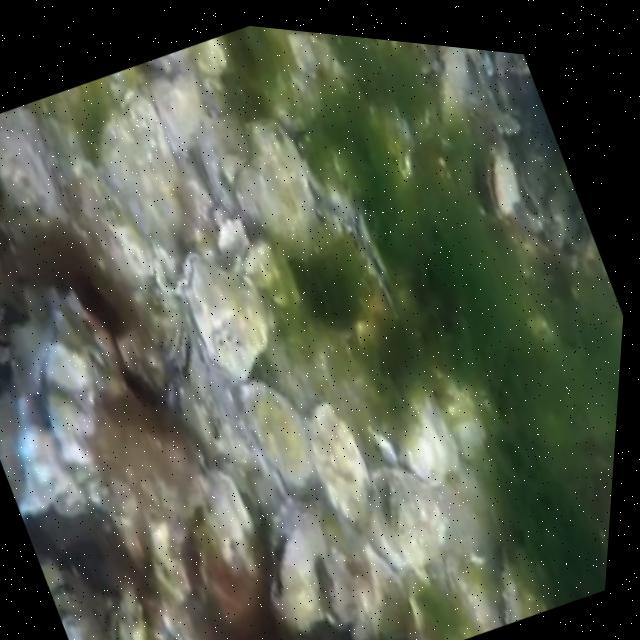Oyster-Closed: (193, 475, 274, 640), (180, 258, 269, 381), (190, 114, 247, 220), (237, 240, 296, 303), (352, 215, 389, 287), (486, 151, 520, 220), (165, 314, 189, 368), (490, 51, 505, 78), (482, 50, 495, 72)
Oyster-Indeterminate: (97, 95, 188, 281), (239, 120, 318, 245), (238, 380, 314, 493), (307, 406, 373, 530), (398, 397, 458, 484), (302, 131, 357, 210), (271, 72, 327, 131), (504, 545, 539, 624), (194, 38, 224, 76), (487, 109, 521, 136)
Oyster-Open: (15, 300, 127, 513), (373, 472, 446, 566), (273, 504, 325, 632), (461, 48, 499, 110), (0, 335, 10, 367)
